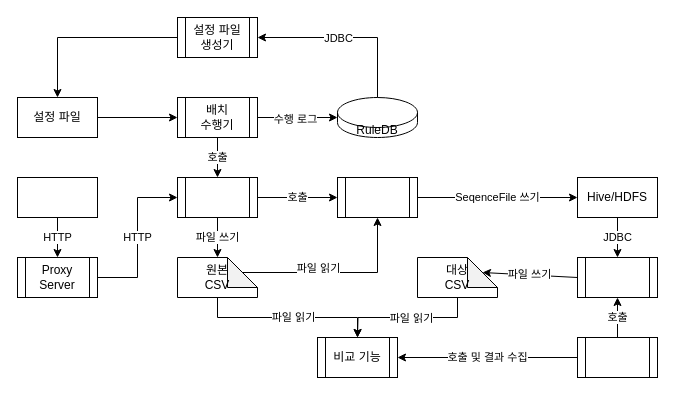
The diagram is 675 pixels wide and 395 high, and some of its shapes have lost their labels. The centre of each missing label's shape, as x and y in pixels:
CSV 추출 기능: (x=617, y=277)
SeqFile 로더: (x=377, y=197)
검증 기능: (x=617, y=357)
수집/적재 기능: (x=217, y=197)
외부 시스템: (x=57, y=197)
